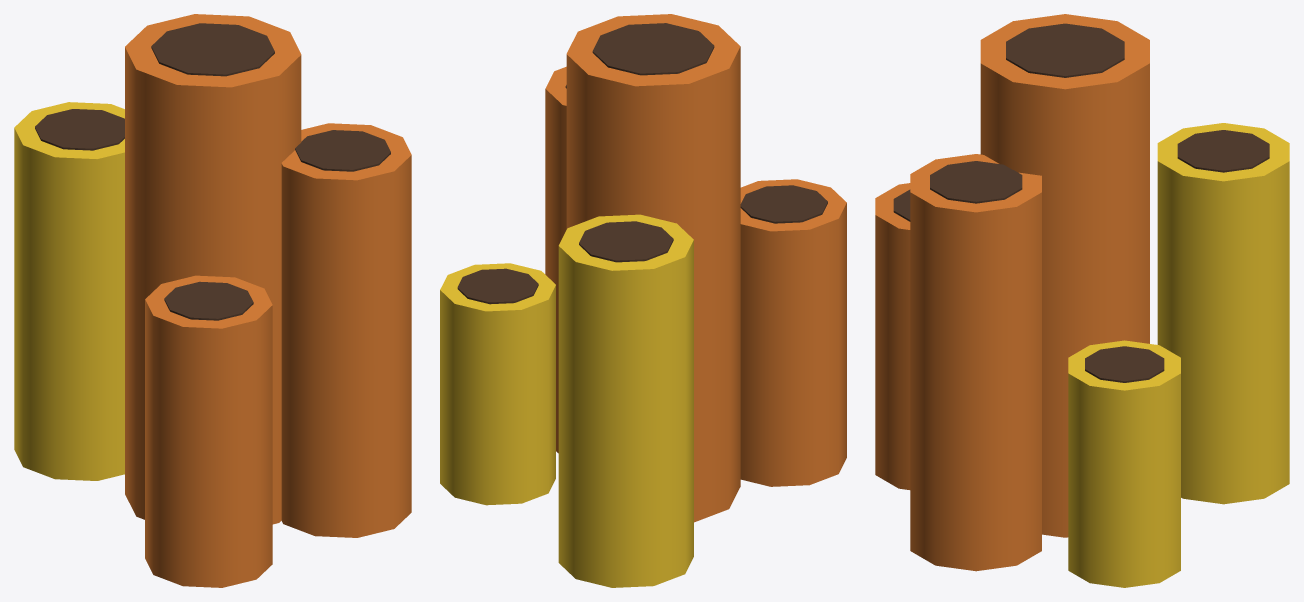
File: TubeSponge.glb
3 views of the same model, side by side, from view 1: azimuth 30°, elevation 25°; view 2: azimuth 150°, elevation 25°; view 3: azimuth 270°, elevation 25° (orthographic).
Visible parts, largest first — view 1: TubeSponge; view 2: TubeSponge; view 3: TubeSponge.
Boxes of the visible parts, box(x1,y1,x2,y2) form: TubeSponge: box(14, 14, 411, 587); TubeSponge: box(440, 14, 846, 587); TubeSponge: box(875, 14, 1289, 587).
Bounding box in the file's own units: 3.55 × 5.02 × 4.18.
Materials: 1 (1 with a texture image).
